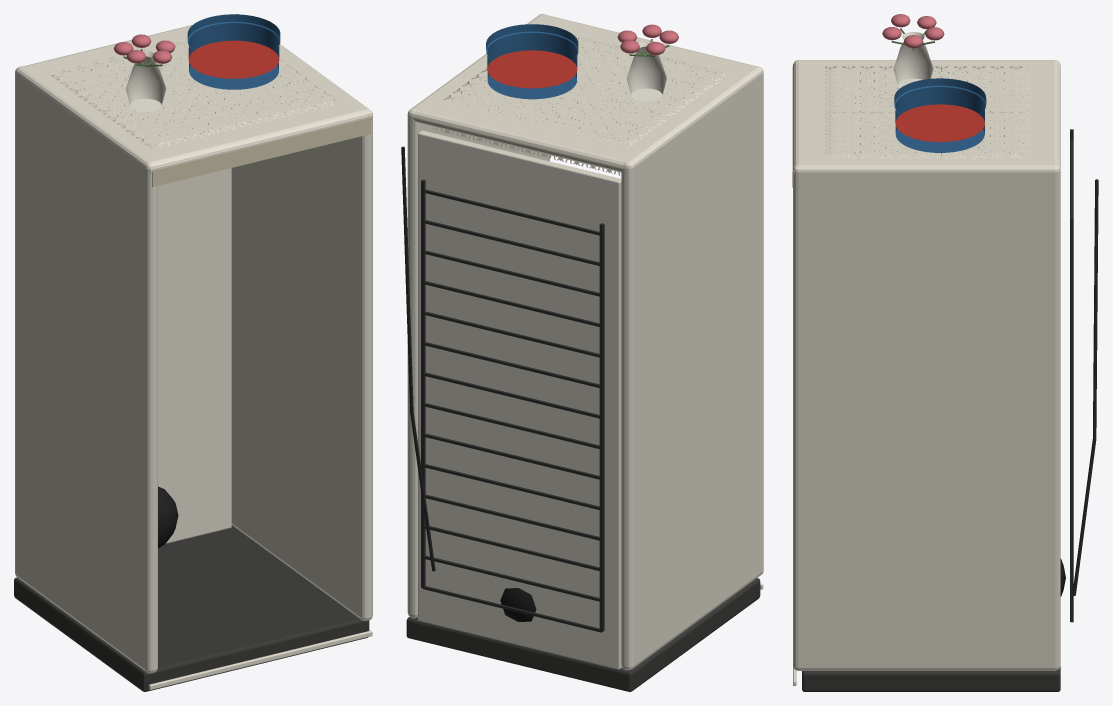
Rendered from TuLanh.glb.
The picture shows the model from 3 angles, left to right: view 1: azimuth 30°, elevation 25°; view 2: azimuth 150°, elevation 25°; view 3: azimuth 270°, elevation 25°; orthographic projection.
Parts seen in each view (by area): view 1: geometry_0; view 2: geometry_0; view 3: geometry_0.
Part boxes in pixels (x1,y1,x2,y2): geometry_0: (14,14,372,691); geometry_0: (401,14,763,691); geometry_0: (792,14,1098,691).
Size of the model in its own units: 0.58 by 1.46 by 0.6865.
12 materials, 1 textured.
